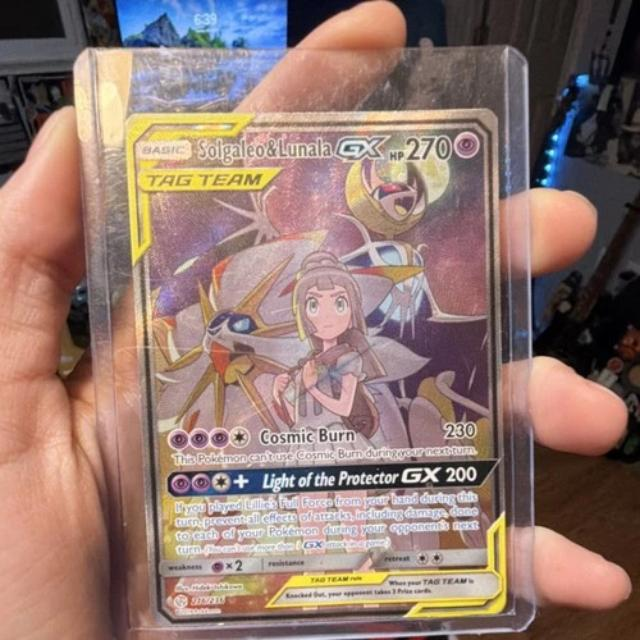Card: (119, 105, 509, 622)
Name: (173, 132, 388, 163)
